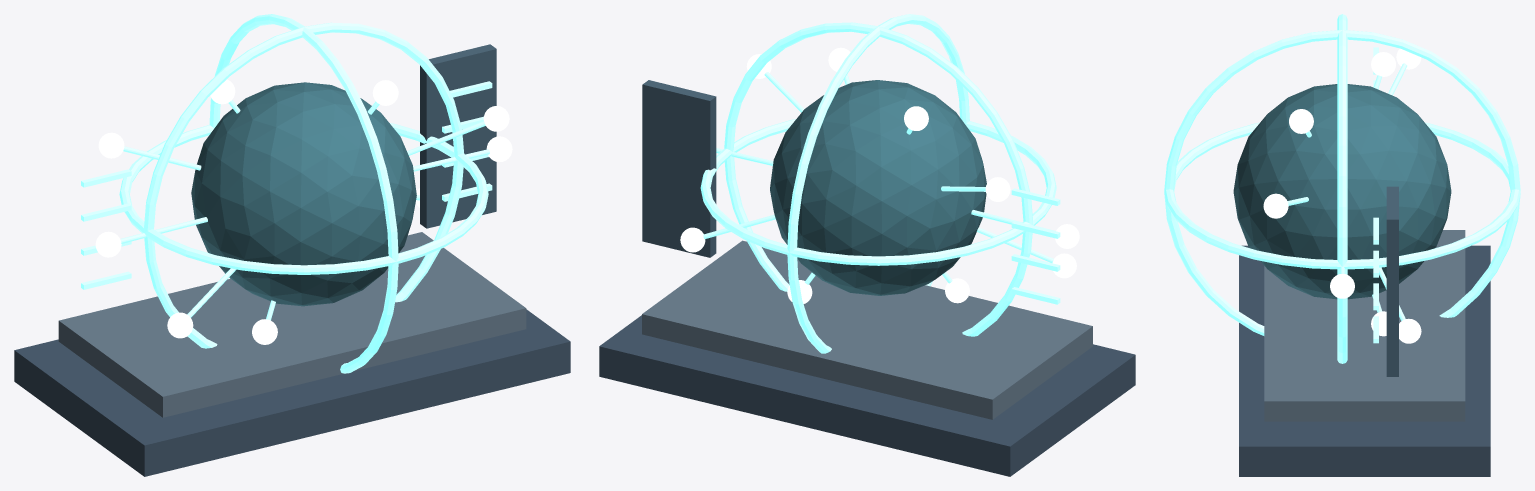
Rendered from plan_01.glb.
The picture shows the model from 3 angles, left to right: view 1: azimuth 30°, elevation 25°; view 2: azimuth 150°, elevation 25°; view 3: azimuth 270°, elevation 25°; orthographic projection. The views are drawn at different scales.
Parts seen in each view (by area): view 1: console_trim, glass_shell, console_base, side_panel, orbit_z, orbit_x, orbit_y, world; view 2: console_trim, glass_shell, console_base, side_panel, orbit_z, orbit_x, orbit_y, world; view 3: glass_shell, console_trim, console_base, orbit_y, orbit_x, orbit_z, world, side_panel.
Part boxes in pixels (box(x1,y1,x2,y2)): console_trim: box(58, 232, 526, 417); glass_shell: box(191, 82, 416, 306); console_base: box(14, 309, 570, 476); side_panel: box(420, 44, 496, 228); orbit_z: box(144, 22, 464, 348); orbit_x: box(119, 123, 488, 274); orbit_y: box(209, 14, 398, 373); world: box(95, 79, 512, 344); console_trim: box(642, 240, 1092, 419); glass_shell: box(770, 80, 986, 295); console_base: box(599, 315, 1135, 476); side_panel: box(642, 80, 716, 257); orbit_z: box(724, 22, 1032, 336); orbit_x: box(700, 119, 1056, 265); orbit_y: box(787, 14, 969, 353); world: box(680, 47, 1079, 303); glass_shell: box(1233, 84, 1451, 299); console_trim: box(1264, 230, 1465, 421); console_base: box(1239, 245, 1490, 476); orbit_y: box(1164, 30, 1520, 335); orbit_x: box(1164, 122, 1520, 269); orbit_z: box(1337, 14, 1347, 363); world: box(1263, 48, 1421, 343); side_panel: box(1386, 186, 1398, 376).
Size of the model in its own units: 1.82 by 1.46 by 1.36.
